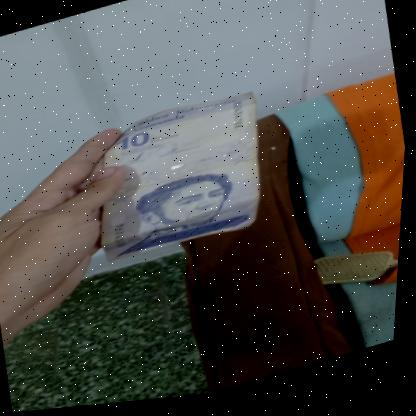ten-front-vef: (81, 88, 281, 272)
